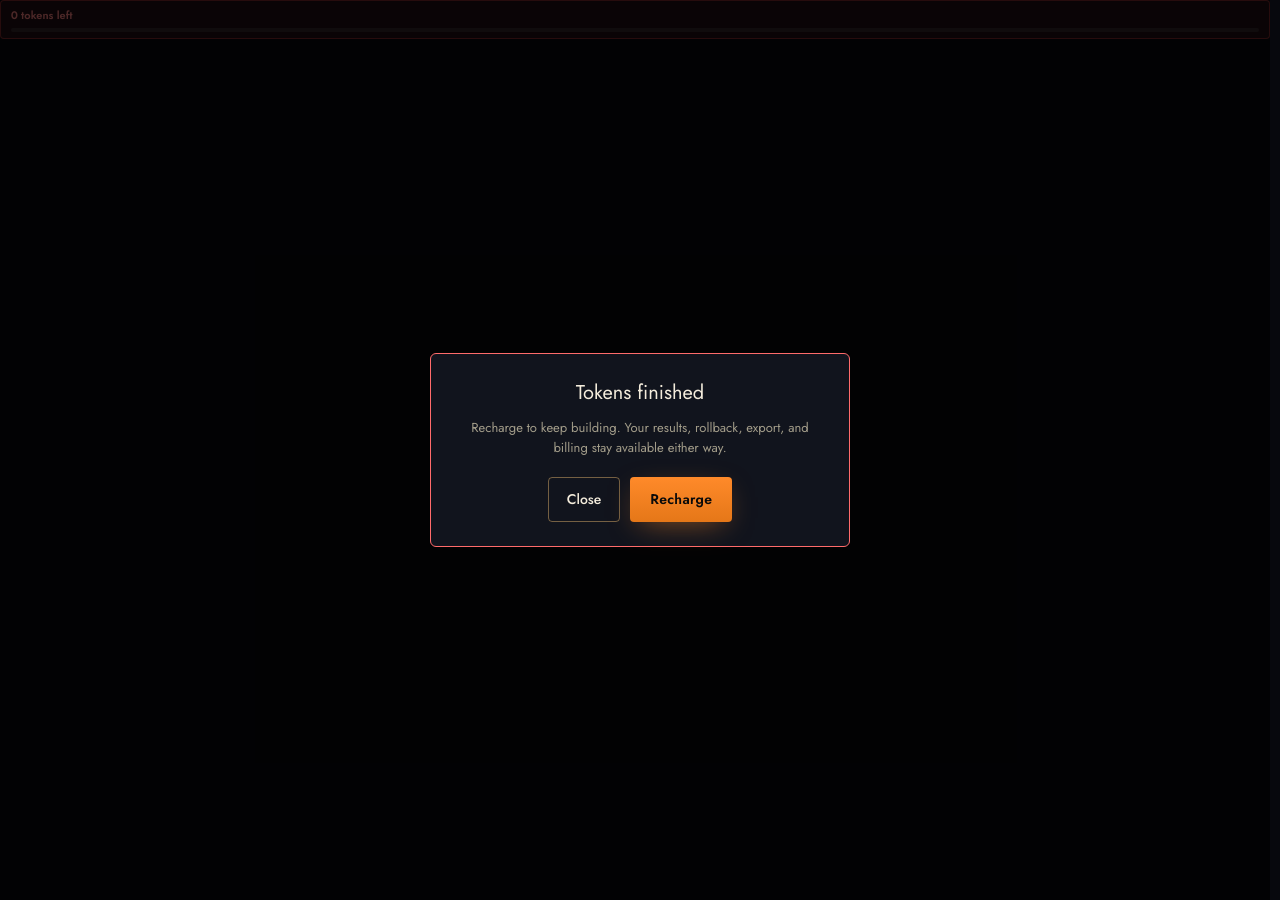
Test: TokenMeter › stop modal is dismissable and does not block rendering of the rest of the app
Expected: the dialog with test id "token-meter-stop-modal" is shown, [430,353,850,547]
Click the button with test id "token-meter-stop-modal-dismiss": {"x": 584, "y": 500} [548,477,620,522]
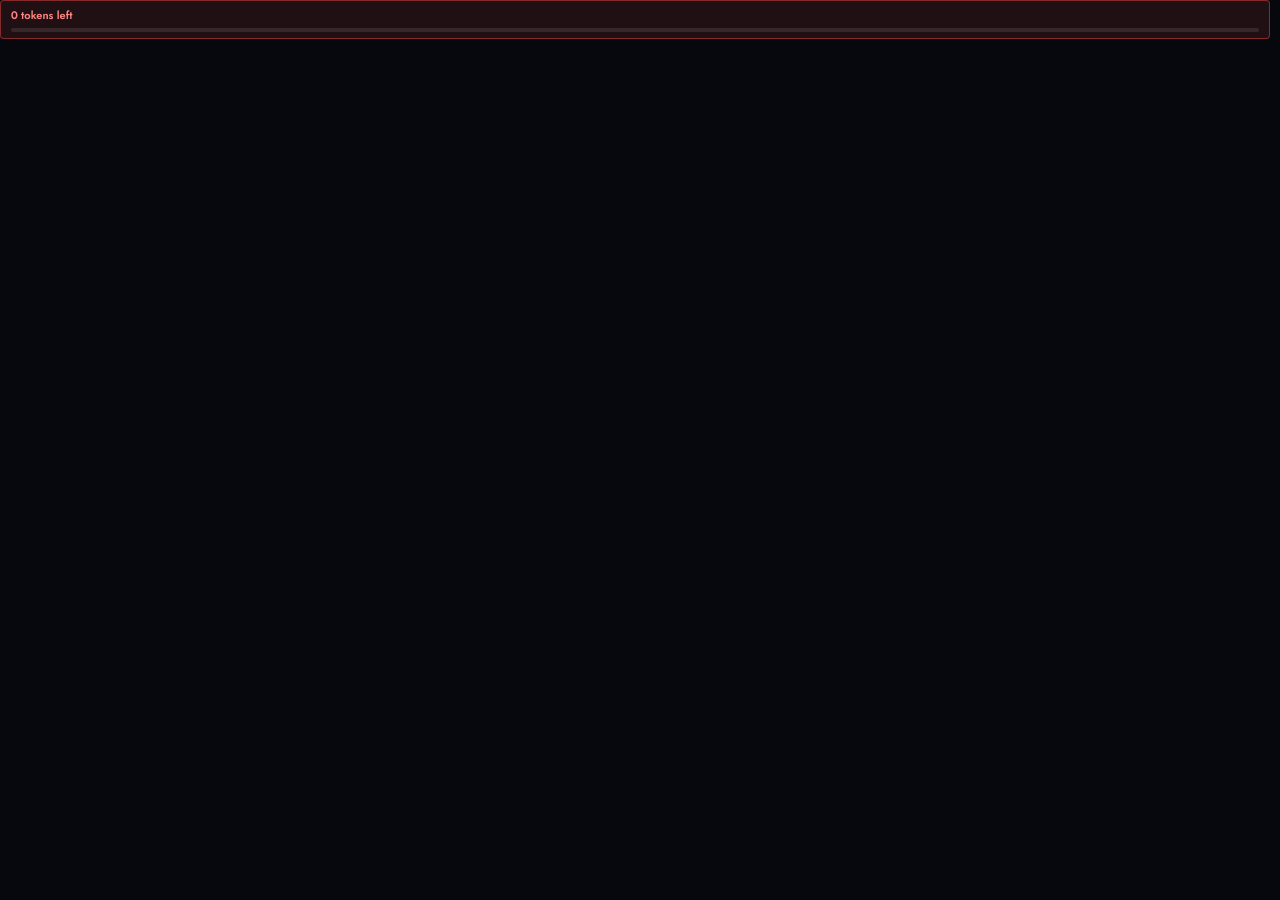
Result: the dialog with test id "token-meter-stop-modal" is gone
